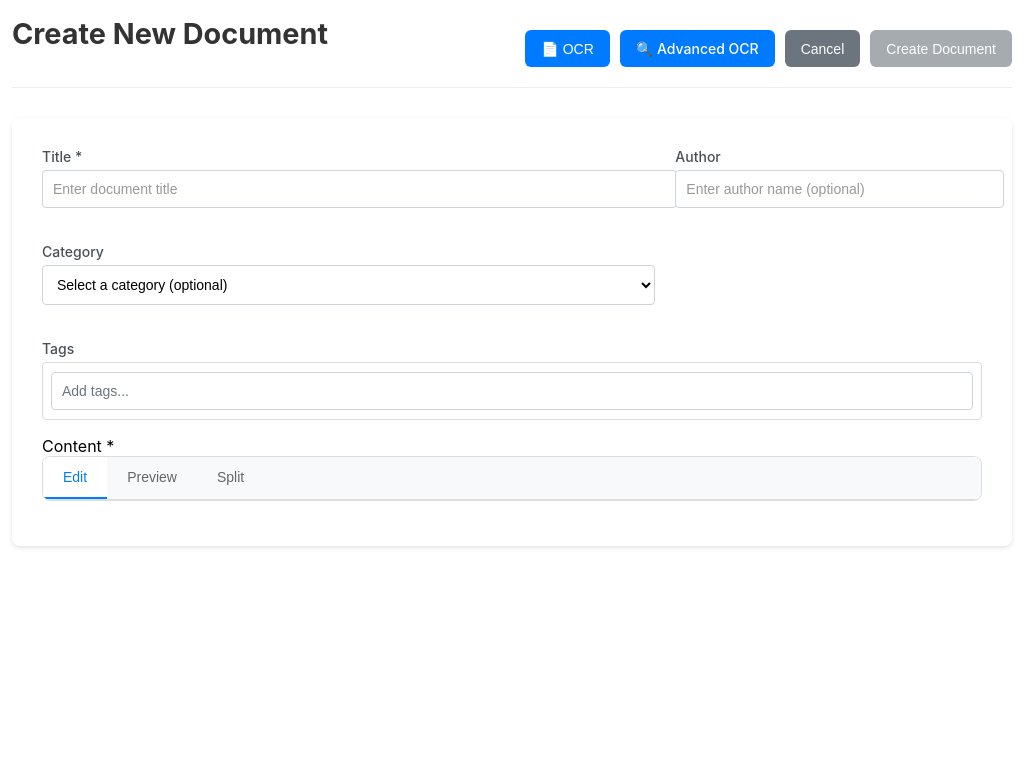
it: DocumentCreate › OCR functionality › hides OCR section when clicked again
This screenshot has width=1024, height=768.
Click the button "📄 OCR" at (568, 48), box [525,30,610,67]
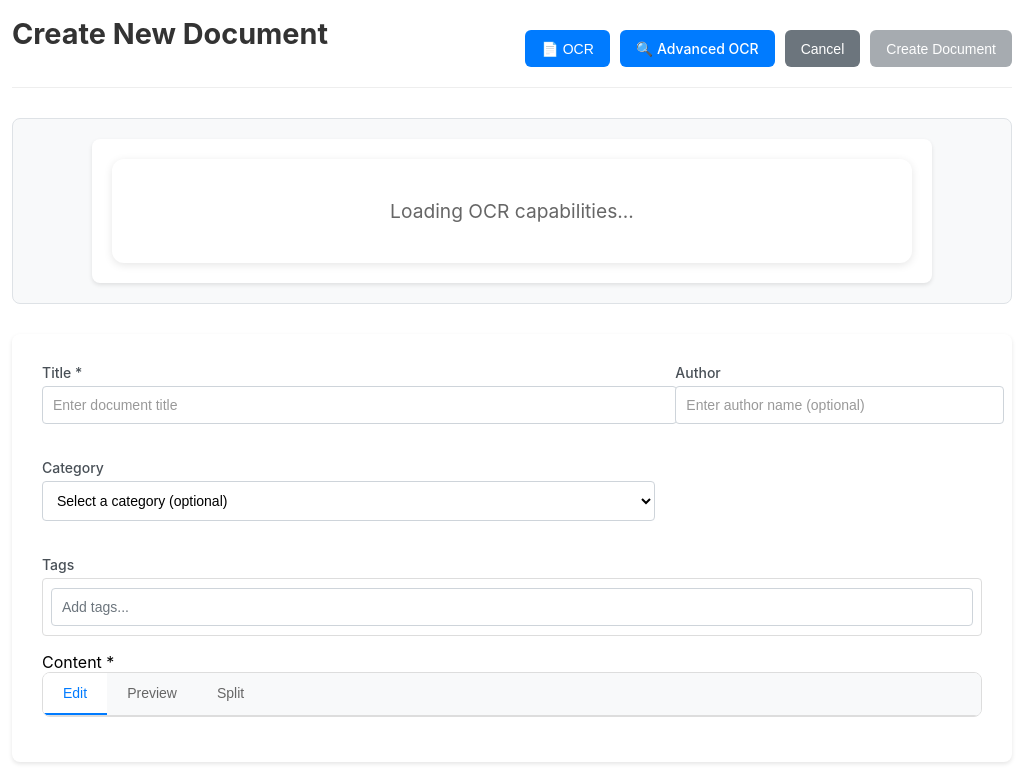
Click the button "📄 OCR" at (568, 48), box [525,30,610,67]
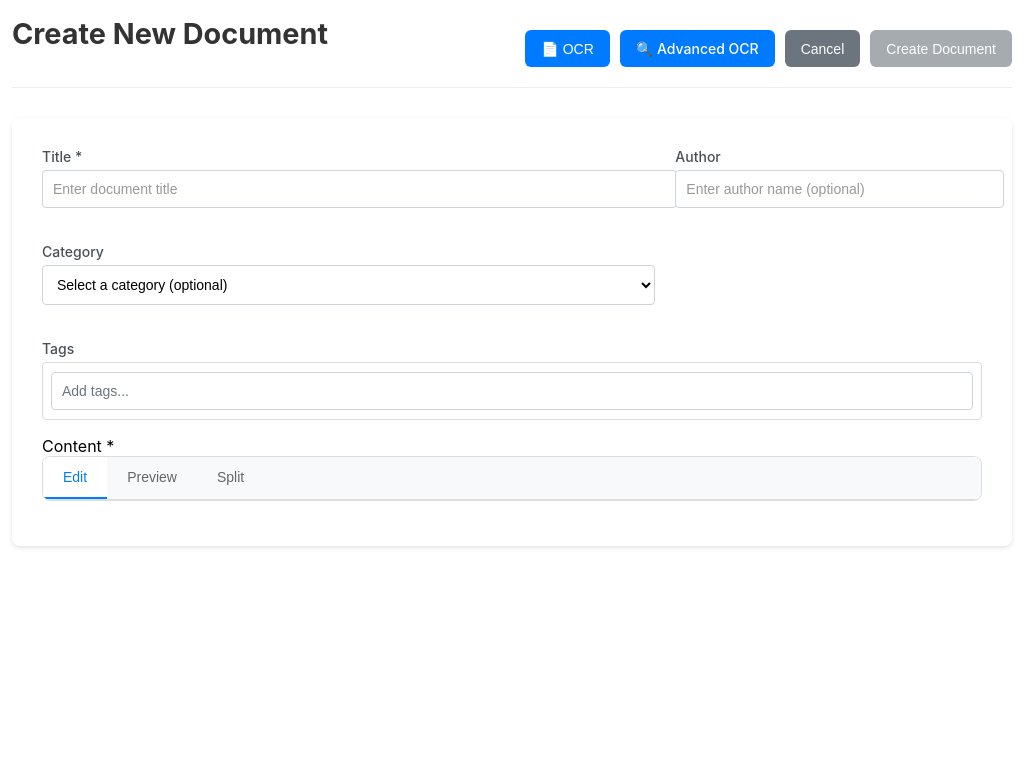
Result: the element with test id "ocr-upload" is gone
